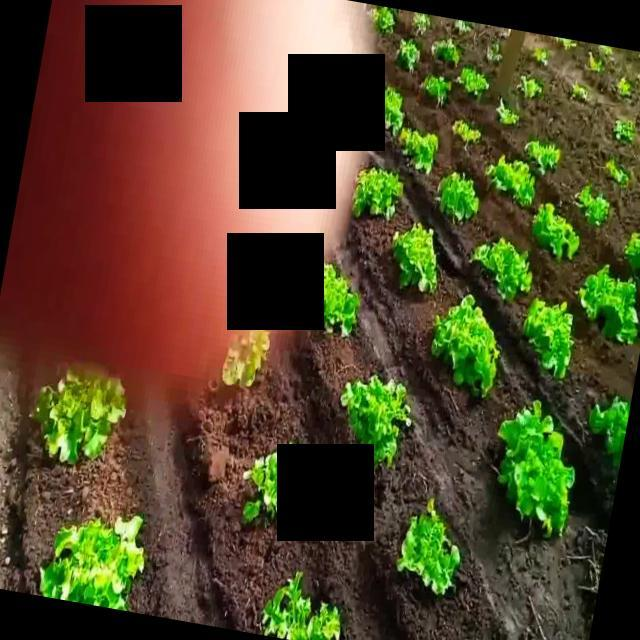Lettuce: (496, 401, 577, 542), (36, 516, 150, 613), (28, 364, 134, 466), (425, 297, 502, 399), (340, 372, 414, 466), (260, 570, 344, 640), (573, 263, 640, 347), (403, 501, 460, 594), (518, 295, 577, 384), (468, 232, 536, 302), (581, 391, 638, 474), (238, 445, 286, 533), (391, 215, 441, 297), (213, 319, 267, 391), (481, 156, 539, 211), (316, 261, 360, 332), (348, 167, 401, 222), (531, 202, 580, 260), (434, 168, 482, 220), (396, 122, 440, 176), (571, 184, 614, 228), (524, 138, 564, 174), (420, 76, 455, 108), (456, 64, 491, 95), (450, 117, 486, 147), (393, 36, 422, 72), (427, 39, 461, 67), (374, 3, 397, 35), (497, 103, 524, 126)
